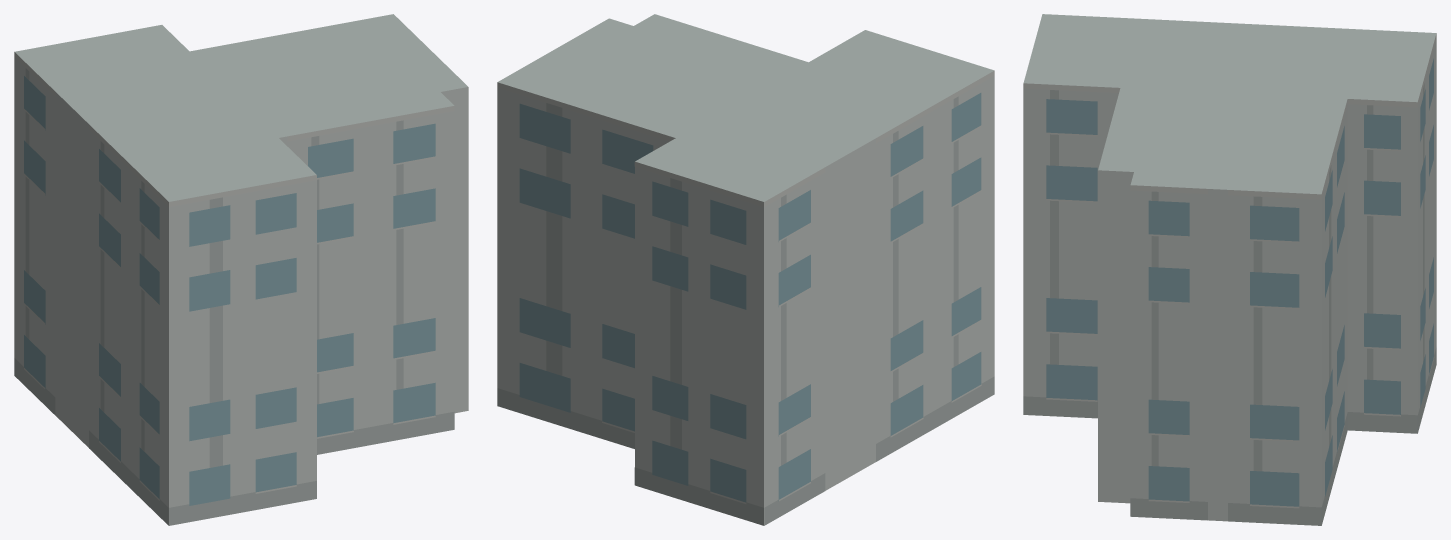
Rendered from survey-upis-32574135.glb.
The picture shows the model from 3 angles, left to right: view 1: azimuth 30°, elevation 25°; view 2: azimuth 150°, elevation 25°; view 3: azimuth 270°, elevation 25°; orthographic projection. The views are drawn at different scales.
Visible parts, largest first — view 1: survey-upis-32574135.tmp; view 2: survey-upis-32574135.tmp; view 3: survey-upis-32574135.tmp.
Boxes of the visible parts, x1,y1,x2,y2 form: survey-upis-32574135.tmp: [14, 14, 468, 525]; survey-upis-32574135.tmp: [497, 14, 994, 525]; survey-upis-32574135.tmp: [1023, 14, 1436, 525].
Bounding box in the file's own units: 17.51 × 15 × 16.95.
